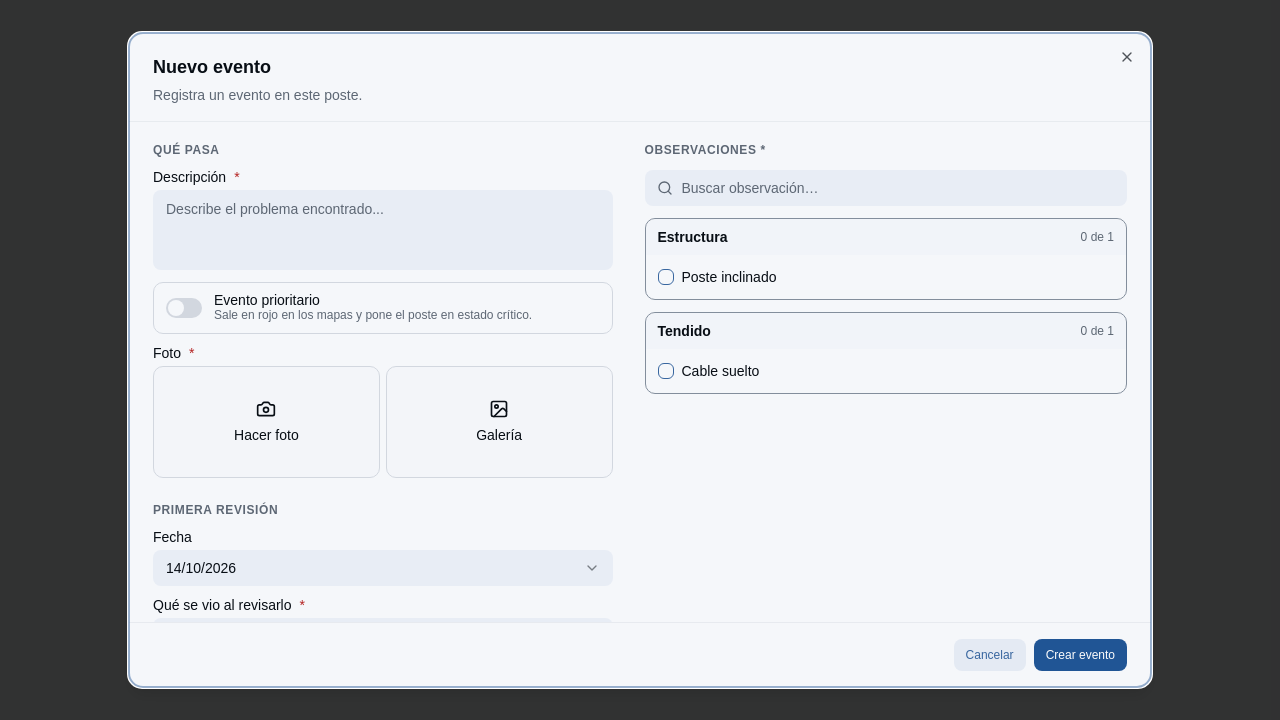
choosing the observations › says so when nothing matches
In the search field labelled "Buscar observación": (886, 188) [644,170,1127,206], type "zzz"
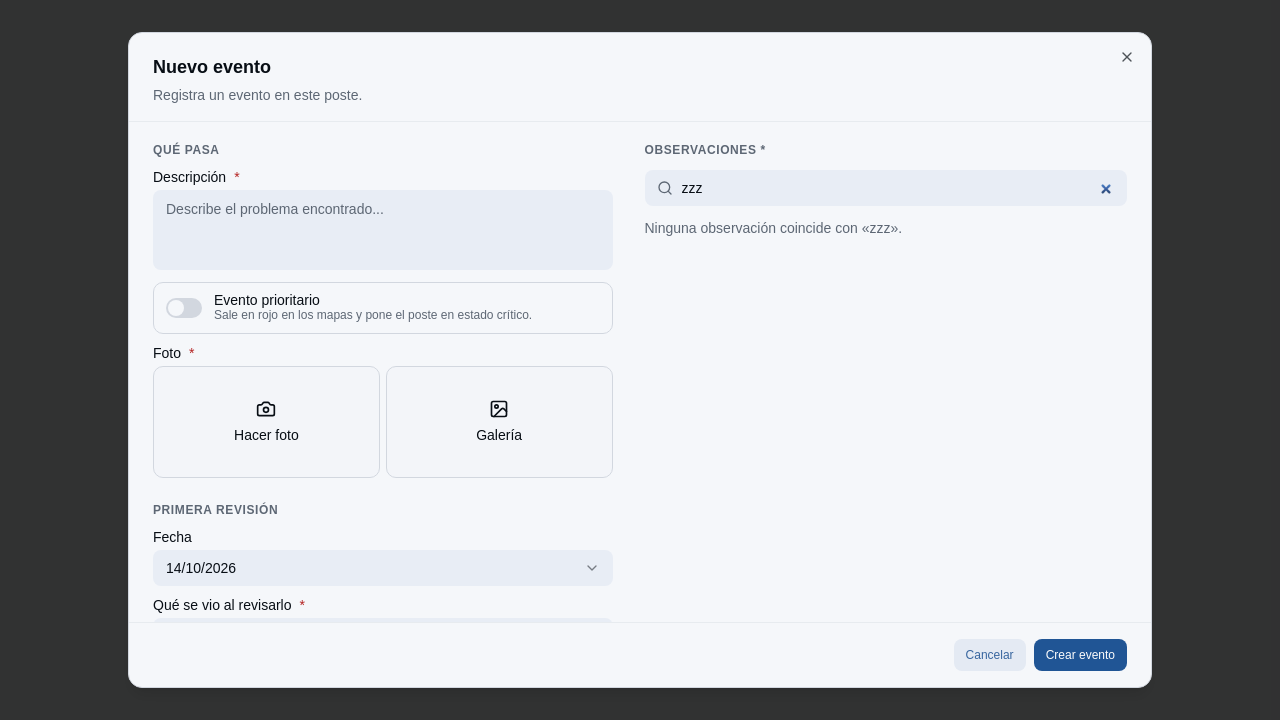
Expected: the text "Ninguna observación coincide con «zzz»." is shown, [644,220,902,236]
